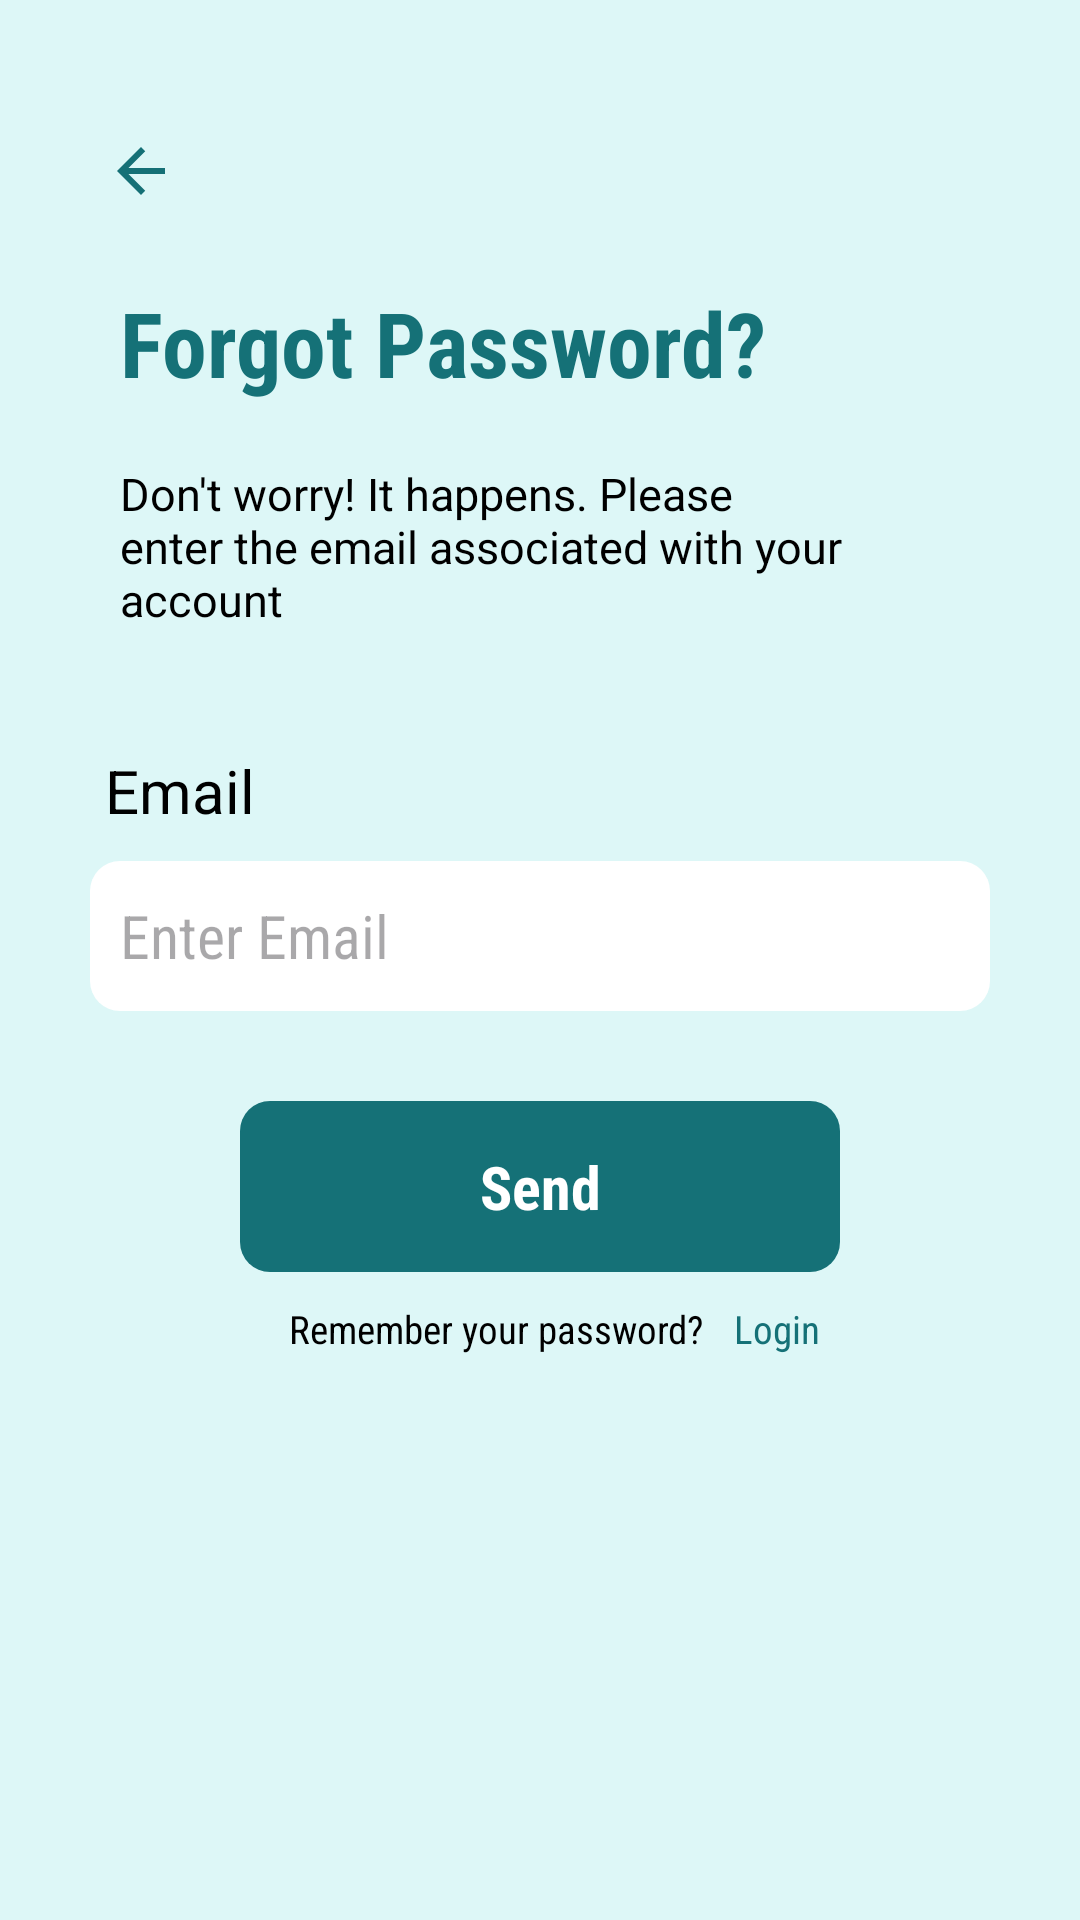

Screen size 1080w x 1920h. Icon name, then its box in pixels as (x1, y1, x2, y2):
arrow back: (117, 147, 165, 195)
